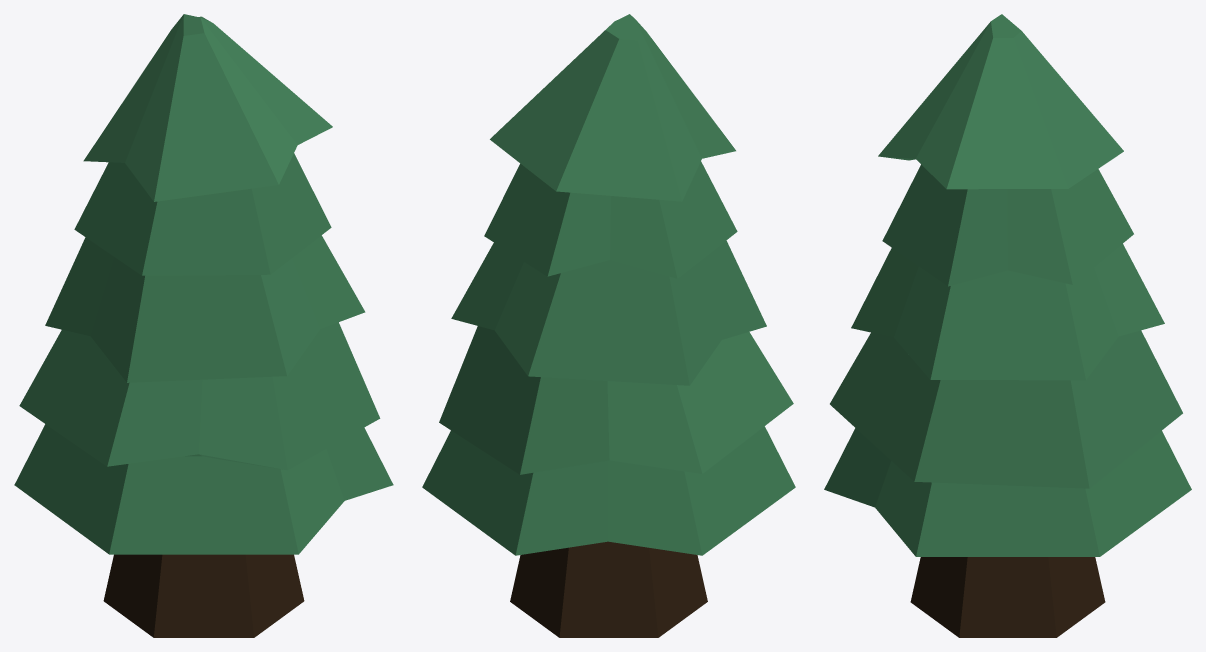
Rendered from tree.glb.
The picture shows the model from 3 angles, left to right: view 1: azimuth 30°, elevation 25°; view 2: azimuth 150°, elevation 25°; view 3: azimuth 270°, elevation 25°; orthographic projection. The views are drawn at different scales.
Parts seen in each view (by area): view 1: Cylinder; view 2: Cylinder; view 3: Cylinder.
Part boxes in pixels (x1,y1,x2,y2): Cylinder: (14, 14, 393, 637); Cylinder: (422, 14, 795, 637); Cylinder: (824, 14, 1191, 637).
Bounding box in the file's own units: 3.27 × 6.54 × 3.78.
